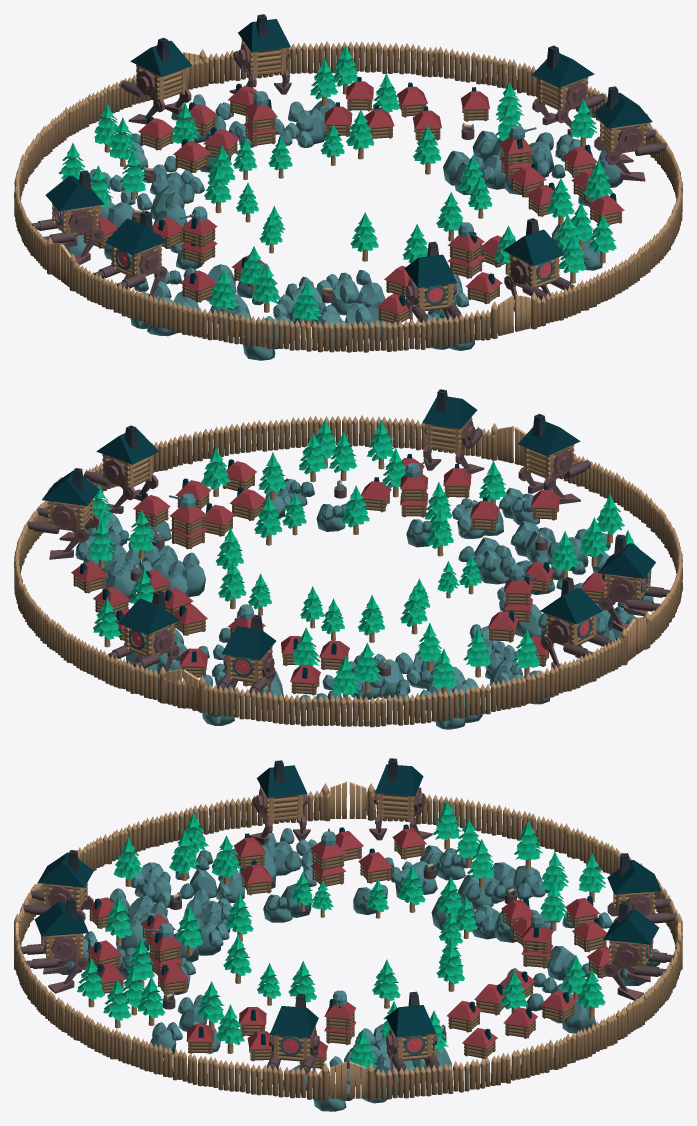
File: stage_3.fbx
3 views of the same model, one above another, from view 1: azimuth 30°, elevation 25°; view 2: azimuth 150°, elevation 25°; view 3: azimuth 270°, elevation 25° (orthographic).
Visible parts, largest first — view 1: Circle.105, house_on_the_foot.001|Cube.017|Dupli|7, house_on_the_foot.003|Cube.017|Dupli|7, house_on_the_foot|Cube.017|Dupli|7, house_on_the_foot.002|Cube.017|Dupli|7, house_on_the_foot.006|Cube.017|Dupli|7, gate|Circle.085|Dupli|1, house_on_the_foot.007|Cube.017|Dupli|7, house_on_the_foot.005|Cube.017|Dupli|7, house_on_the_foot.004|Cube.017|Dupli|7, tree.028|Cylinder|Dupli|, tree.023|Cylinder|Dupli| (+30 smaller); view 2: Circle.105, house_on_the_foot.004|Cube.017|Dupli|7, house_on_the_foot.002|Cube.017|Dupli|7, house_on_the_foot.005|Cube.017|Dupli|7, house_on_the_foot.003|Cube.017|Dupli|7, house_on_the_foot|Cube.017|Dupli|7, house_on_the_foot.007|Cube.017|Dupli|7, house_on_the_foot.001|Cube.017|Dupli|7, house_on_the_foot.006|Cube.017|Dupli|7, gate|Circle.085|Dupli|1, tree.035|Cylinder|Dupli|, tree.005|Cylinder|Dupli| (+41 smaller); view 3: Circle.105, house_on_the_foot.004|Cube.017|Dupli|7, house_on_the_foot.007|Cube.017|Dupli|7, house_on_the_foot.001|Cube.017|Dupli|7, gate.002|Circle.085|Dupli|1, house_on_the_foot.005|Cube.017|Dupli|7, house_on_the_foot.006|Cube.017|Dupli|7, gate.001|Circle.085|Dupli|1, house_on_the_foot|Cube.017|Dupli|7, house_on_the_foot.003|Cube.017|Dupli|7, house_on_the_foot.002|Cube.017|Dupli|7, tree.021|Cylinder|Dupli| (+35 smaller).
Part boxes in pixels (bbox=[...]): Circle.105: bbox=[14, 41, 682, 352]; house_on_the_foot.001|Cube.017|Dupli|7: bbox=[503, 229, 565, 265]; house_on_the_foot.003|Cube.017|Dupli|7: bbox=[105, 218, 167, 254]; house_on_the_foot|Cube.017|Dupli|7: bbox=[404, 254, 457, 287]; house_on_the_foot.002|Cube.017|Dupli|7: bbox=[45, 175, 104, 211]; house_on_the_foot.006|Cube.017|Dupli|7: bbox=[594, 93, 652, 128]; gate|Circle.085|Dupli|1: bbox=[498, 294, 530, 335]; house_on_the_foot.007|Cube.017|Dupli|7: bbox=[532, 53, 594, 87]; house_on_the_foot.005|Cube.017|Dupli|7: bbox=[130, 40, 192, 76]; house_on_the_foot.004|Cube.017|Dupli|7: bbox=[238, 19, 290, 52]; tree.028|Cylinder|Dupli|: bbox=[109, 117, 136, 166]; tree.023|Cylinder|Dupli|: bbox=[119, 150, 148, 199]; Circle.105: bbox=[14, 415, 682, 727]; house_on_the_foot.004|Cube.017|Dupli|7: bbox=[118, 598, 180, 634]; house_on_the_foot.002|Cube.017|Dupli|7: bbox=[540, 587, 602, 624]; house_on_the_foot.005|Cube.017|Dupli|7: bbox=[221, 626, 276, 659]; house_on_the_foot.003|Cube.017|Dupli|7: bbox=[598, 543, 655, 578]; house_on_the_foot|Cube.017|Dupli|7: bbox=[518, 421, 580, 455]; house_on_the_foot.007|Cube.017|Dupli|7: bbox=[42, 471, 99, 506]; house_on_the_foot.001|Cube.017|Dupli|7: bbox=[422, 396, 477, 428]; house_on_the_foot.006|Cube.017|Dupli|7: bbox=[96, 429, 159, 464]; gate|Circle.085|Dupli|1: bbox=[497, 426, 526, 465]; tree.035|Cylinder|Dupli|: bbox=[201, 447, 230, 496]; tree.005|Cylinder|Dupli|: bbox=[218, 559, 246, 609]; Circle.105: bbox=[15, 790, 682, 1100]; house_on_the_foot.004|Cube.017|Dupli|7: bbox=[603, 909, 659, 944]; house_on_the_foot.007|Cube.017|Dupli|7: bbox=[386, 1005, 436, 1037]; house_on_the_foot.001|Cube.017|Dupli|7: bbox=[34, 901, 88, 936]; gate.002|Circle.085|Dupli|1: bbox=[330, 1061, 366, 1098]; house_on_the_foot.005|Cube.017|Dupli|7: bbox=[607, 860, 661, 894]; house_on_the_foot.006|Cube.017|Dupli|7: bbox=[269, 1006, 318, 1037]; gate.001|Circle.085|Dupli|1: bbox=[330, 781, 366, 818]; house_on_the_foot|Cube.017|Dupli|7: bbox=[38, 852, 93, 887]; house_on_the_foot.003|Cube.017|Dupli|7: bbox=[256, 765, 307, 797]; house_on_the_foot.002|Cube.017|Dupli|7: bbox=[375, 764, 423, 796]; tree.021|Cylinder|Dupli|: bbox=[169, 831, 199, 880].
Bounding box in the file's own units: 5070 × 914 × 5073.
2 materials, 2 textured.
